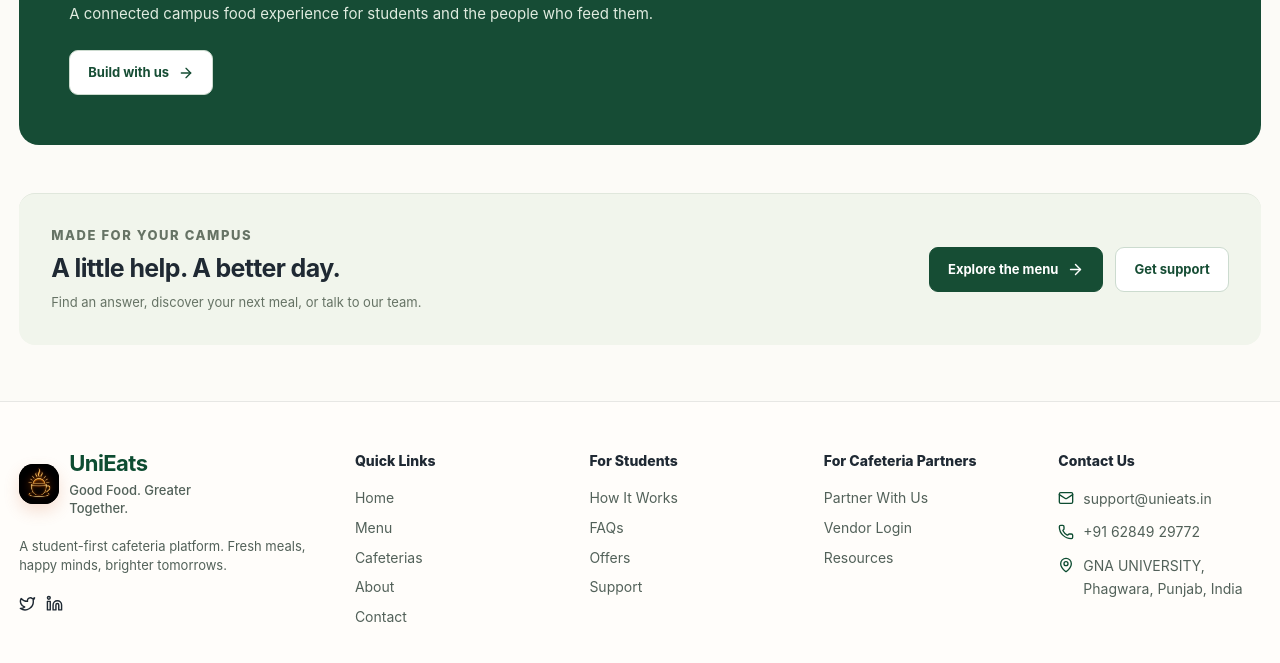
footer page journeys › follows a footer link to the next page
(page scrolled)
Click the link "Contact": (381, 617) [355,608,407,625]
(page scrolled)
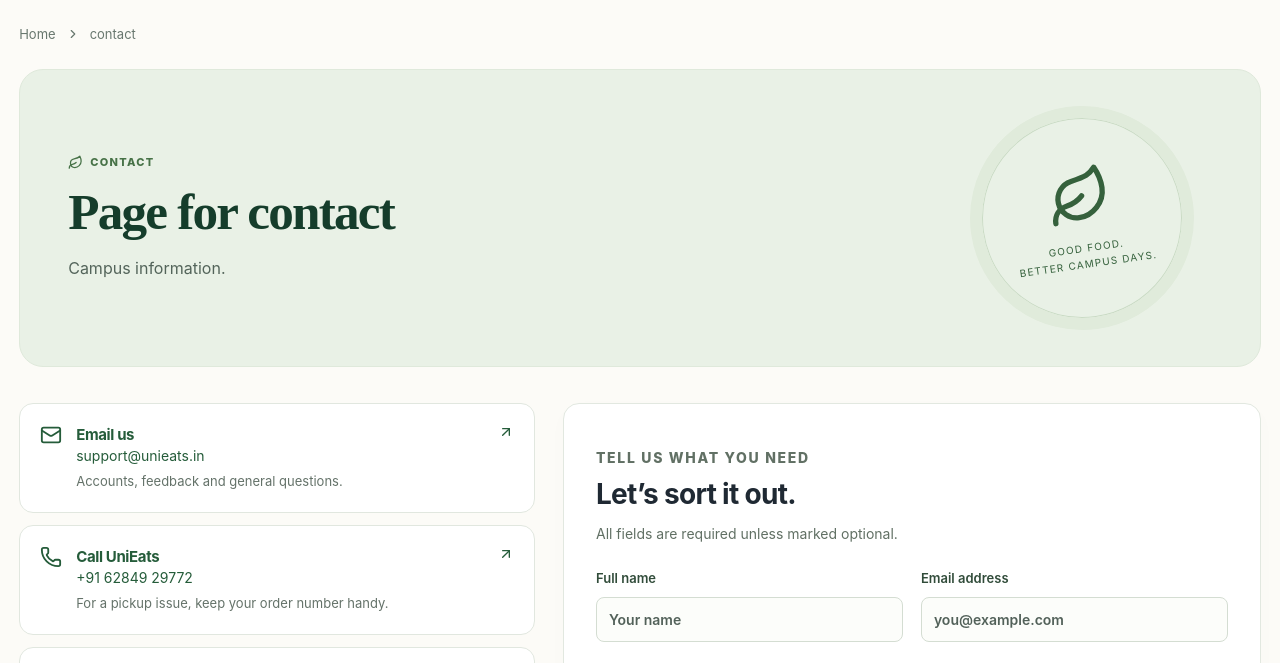
Expected: the heading "Page for contact" is shown, [68,183,394,240]
